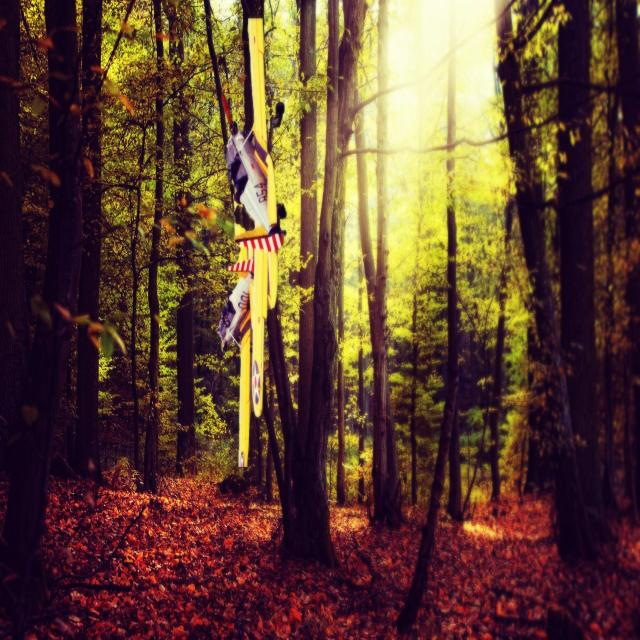airplane: (204, 1, 286, 468)
